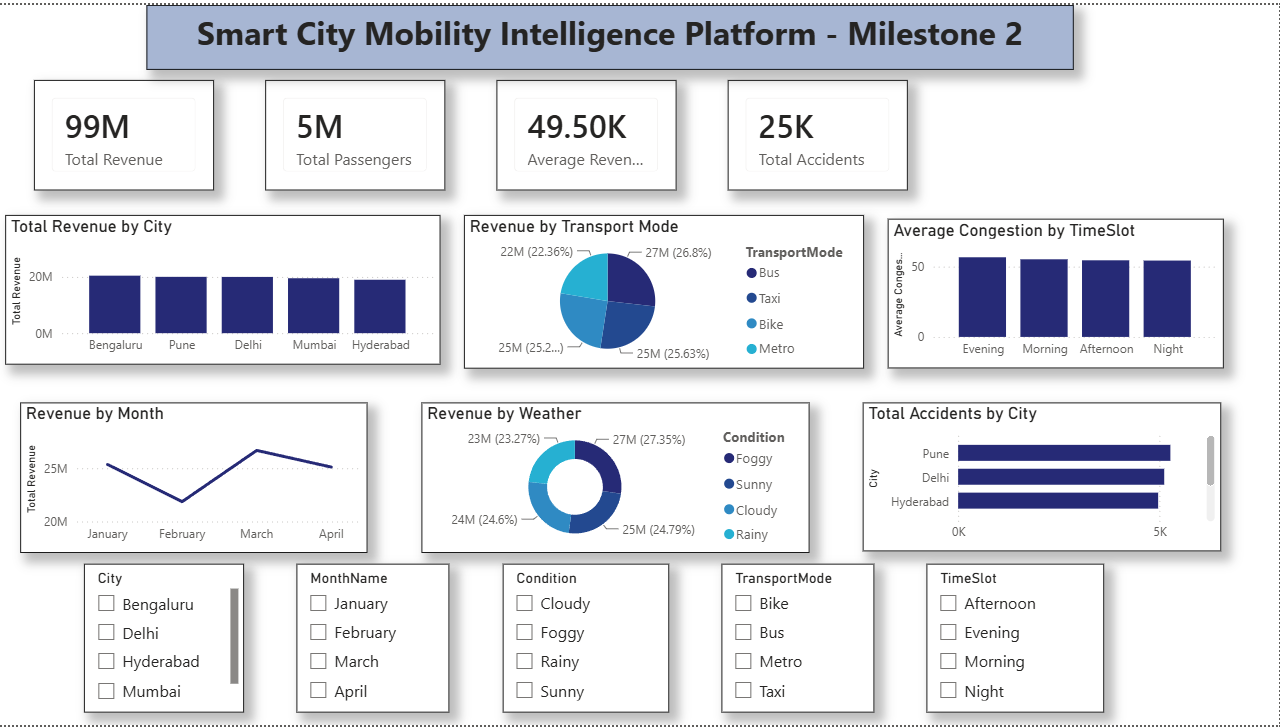

The page's visual inventory and layout, read from the dashboard file:
{"tool":"powerbi","page":{"name":"Page 1","canvas":[1280,720],"ordinal":0},"visuals":[{"type":"cardVisual","fields":{"Data":["Fact_Revenue.Total Revenue"]},"box":[35,75,180,110],"z":0},{"type":"cardVisual","fields":{"Data":["Fact_Revenue.Total Passengers"]},"box":[266.2,75,180,110],"z":1000},{"type":"cardVisual","fields":{"Data":["Fact_Revenue.Average Revenue"]},"box":[497.5,75,180,110],"z":2000},{"type":"cardVisual","fields":{"Data":["Fact_Revenue.Total Accidents"]},"box":[728.8,75,180,110],"z":3000},{"type":"clusteredColumnChart","fields":{"Category":["Dim_City.City"],"Y":["Fact_Revenue.Total Revenue"]},"box":[6.9,210,435,149.6],"z":4000},{"type":"lineChart","title":"Revenue by Month","fields":{"Y":["Fact_Revenue.Total Revenue"],"Category":["Dim_Date.MonthName"]},"box":[20.8,397.4,347.3,150.4],"z":5000},{"type":"pieChart","title":"Revenue by Transport Mode","fields":{"Category":["Dim_Transport.TransportMode"],"Y":["Fact_Revenue.Total Revenue"]},"box":[465.5,210,400,153.8],"z":6000},{"type":"donutChart","title":"Revenue by Weather","fields":{"Category":["Dim_Weather.Condition"],"Y":["Fact_Revenue.Total Revenue"]},"box":[421.9,397.4,387.6,150.4],"z":7000},{"type":"clusteredColumnChart","fields":{"Category":["Dim_Time.TimeSlot"],"Y":["Fact_Revenue.Average Congestion"]},"box":[889.2,214.2,336.2,149.6],"z":8000},{"type":"clusteredBarChart","fields":{"Y":["Fact_Revenue.Total Accidents"],"Category":["Dim_City.City"]},"box":[863.3,397.4,358.3,149.2],"z":9000},{"type":"slicer","fields":{"Values":["Dim_City.City"]},"box":[85,558.8,160,148.8],"z":10000},{"type":"textbox","box":[147.5,0,927.5,65],"z":11000},{"type":"slicer","fields":{"Values":["Dim_Date.MonthName"]},"box":[297.8,558.8,152.5,148.8],"z":12000},{"type":"slicer","fields":{"Values":["Dim_Weather.Condition"]},"box":[503.1,558.8,166.2,148.8],"z":13000},{"type":"slicer","fields":{"Values":["Dim_Transport.TransportMode"]},"box":[722.2,558.8,152.5,148.8],"z":14000},{"type":"slicer","fields":{"Values":["Dim_Time.TimeSlot"]},"box":[927.5,558.8,177.5,148.8],"z":15000}]}

Visuals, with their boxes in screenshot pixels (x1, y1, x2, y2), scaled from the page's 1280x720 canvas onto the 1280x728 screenshot:
cardVisual - Fact_Revenue.Total Revenue: bbox(35, 76, 215, 187)
cardVisual - Fact_Revenue.Total Passengers: bbox(266, 76, 446, 187)
cardVisual - Fact_Revenue.Average Revenue: bbox(498, 76, 678, 187)
cardVisual - Fact_Revenue.Total Accidents: bbox(729, 76, 909, 187)
clusteredColumnChart - Dim_City.City x Fact_Revenue.Total Revenue: bbox(7, 212, 442, 364)
"Revenue by Month" lineChart: bbox(21, 402, 368, 554)
"Revenue by Transport Mode" pieChart: bbox(466, 212, 866, 368)
"Revenue by Weather" donutChart: bbox(422, 402, 810, 554)
clusteredColumnChart - Dim_Time.TimeSlot x Fact_Revenue.Average Congestion: bbox(889, 217, 1225, 368)
clusteredBarChart - Fact_Revenue.Total Accidents x Dim_City.City: bbox(863, 402, 1222, 553)
slicer - Dim_City.City: bbox(85, 565, 245, 715)
textbox: bbox(148, 0, 1075, 66)
slicer - Dim_Date.MonthName: bbox(298, 565, 450, 715)
slicer - Dim_Weather.Condition: bbox(503, 565, 669, 715)
slicer - Dim_Transport.TransportMode: bbox(722, 565, 875, 715)
slicer - Dim_Time.TimeSlot: bbox(928, 565, 1105, 715)
